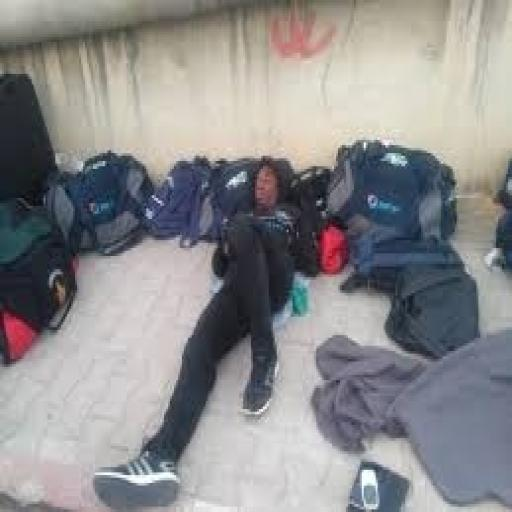sleeping: (91, 153, 306, 509)
